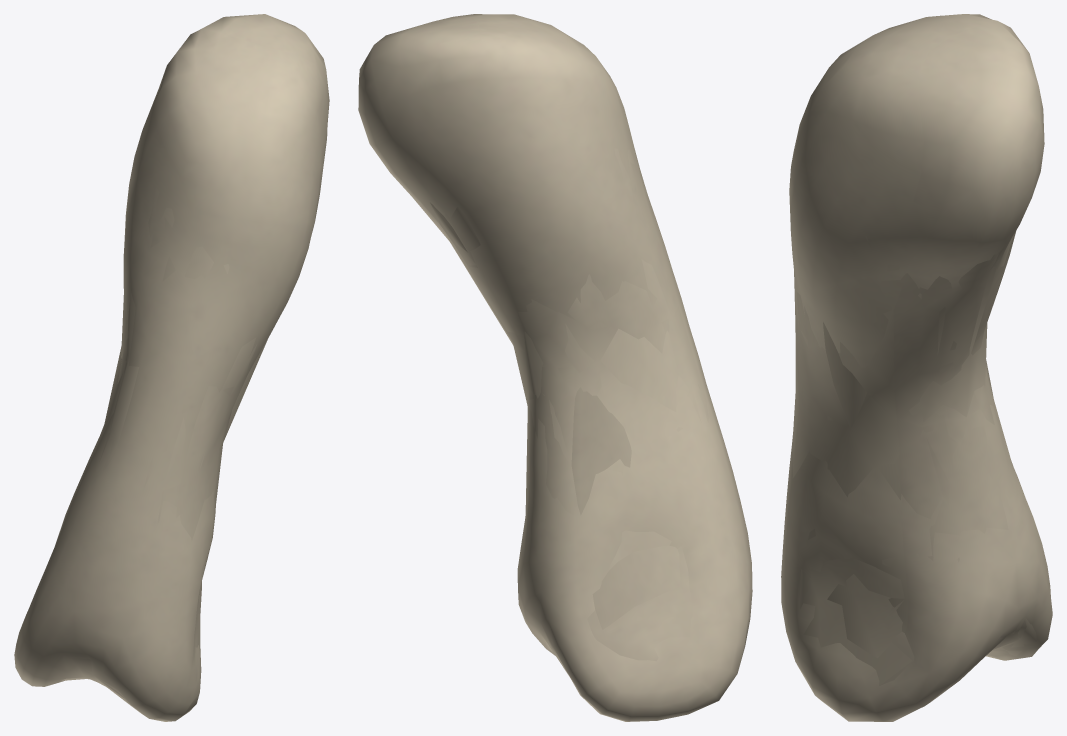
Rendered from L metacarpi primum.fbx.
3 views of the same model, side by side, from view 1: azimuth 30°, elevation 25°; view 2: azimuth 150°, elevation 25°; view 3: azimuth 270°, elevation 25° (orthographic). The views are drawn at different scales.
Visible parts, largest first — view 1: L metacarpi primum high, L metacarpi primum, L metacarpi primum low; view 2: L metacarpi primum high, L metacarpi primum, L metacarpi primum low; view 3: L metacarpi primum high, L metacarpi primum, L metacarpi primum low.
Boxes of the visible parts, x1,y1,x2,y2 form: L metacarpi primum high: [14, 14, 329, 721]; L metacarpi primum: [62, 187, 257, 697]; L metacarpi primum low: [62, 337, 268, 685]; L metacarpi primum high: [358, 14, 752, 721]; L metacarpi primum: [410, 148, 708, 675]; L metacarpi primum low: [430, 202, 700, 629]; L metacarpi primum high: [781, 14, 1052, 721]; L metacarpi primum: [792, 230, 1036, 685]; L metacarpi primum low: [802, 234, 1013, 658].
Bounding box in the file's own units: 2.1 × 3.85 × 1.27.
Materials: 1 (1 with a texture image).
